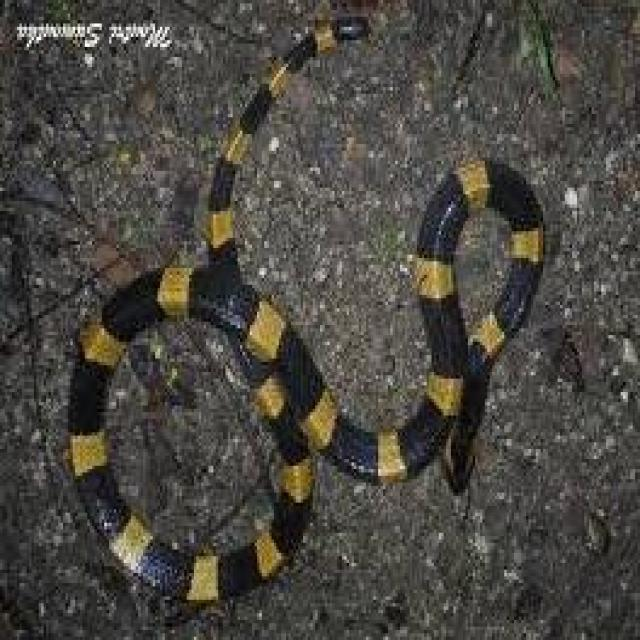Venomous: (429, 336, 484, 479)
